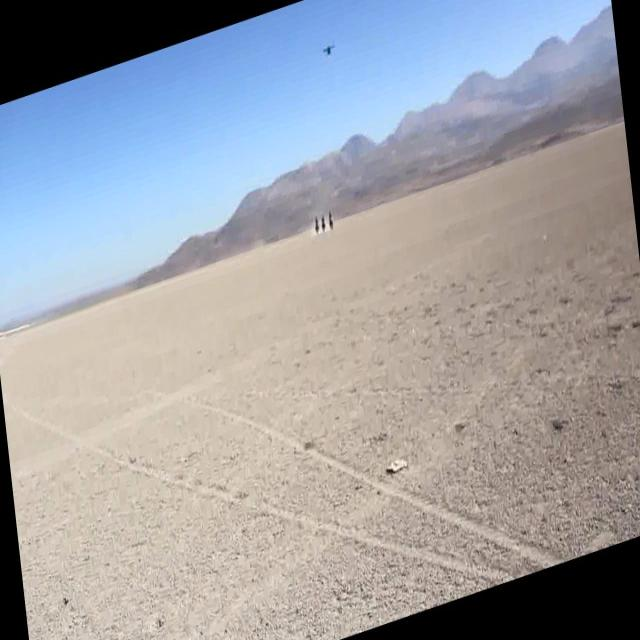drone: (317, 34, 338, 64)
